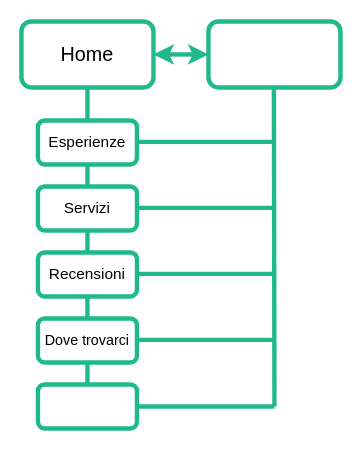
This 361x450 diagram has some shape labels left out. Here are the shapes that lost their labels. From the top down, the box of each, then its label:
(206, 19, 342, 89): Documentazione
(35, 382, 139, 430): Contatti
